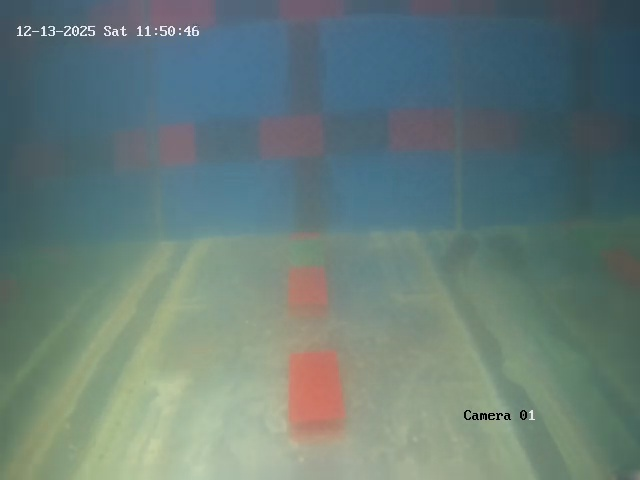fish: (426, 227, 491, 282)
